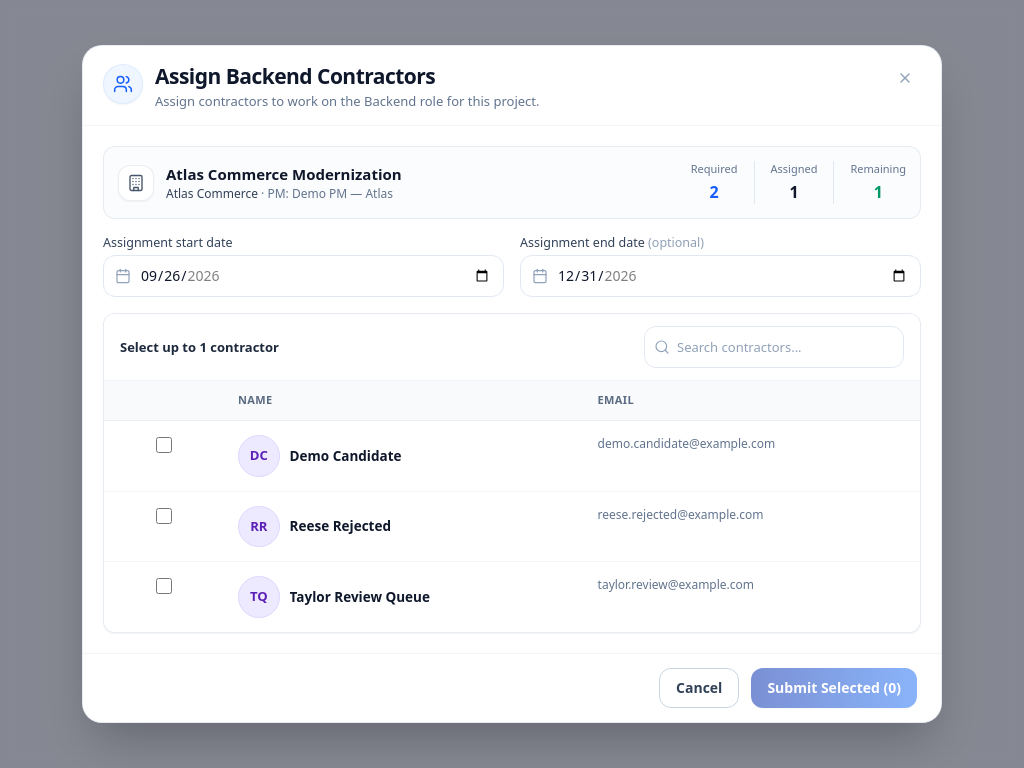
Test case: 7. toggles checkbox selection and updates selected count
Check: the button "Submit Selected (0)" is disabled, box 751,668 -> 917,708
Click the checkbox named "Select Demo Candidate" at (164, 445), box 156,437 -> 172,453
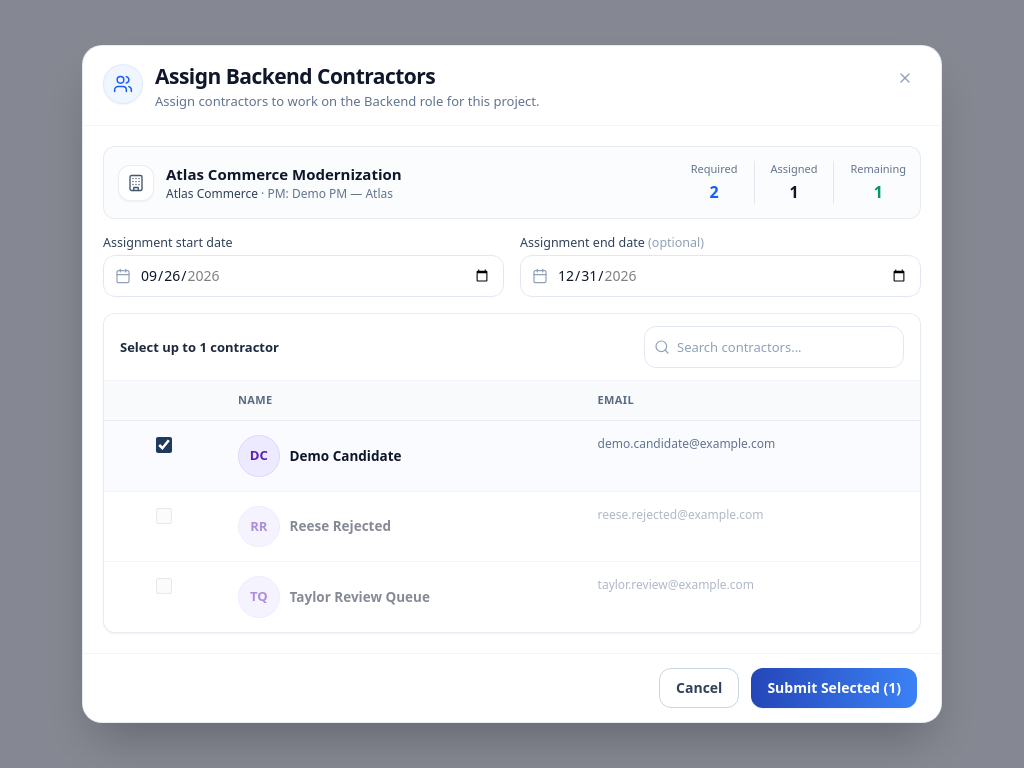
Check: the button "Submit Selected (1)" is enabled, box 751,668 -> 917,708
Click the checkbox named "Select Demo Candidate" at (164, 445), box 156,437 -> 172,453
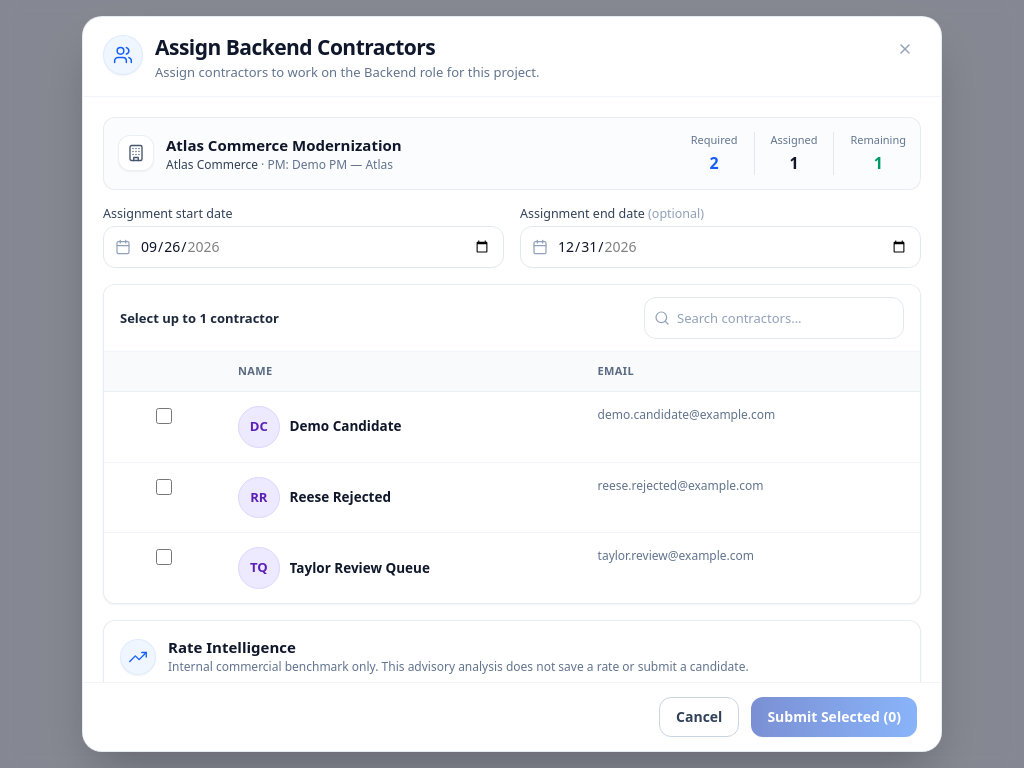
Check: the button "Submit Selected (0)" is disabled, box 751,697 -> 917,737
